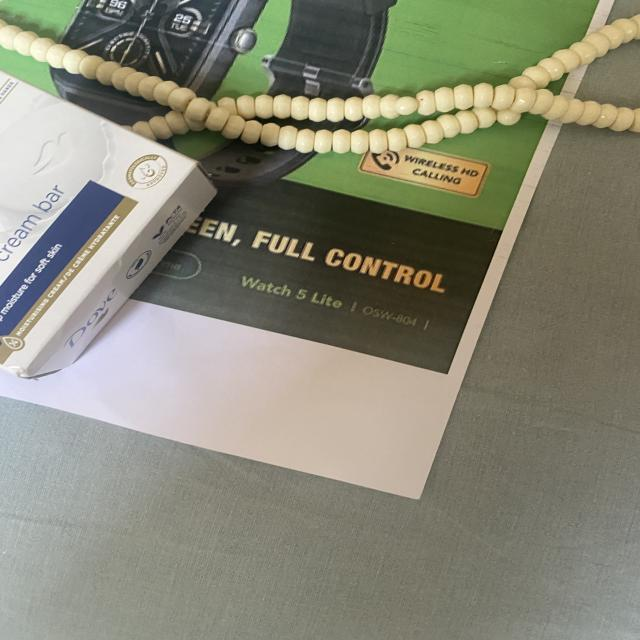Watch 5 Lite OSW-804: (231, 266, 442, 337)
